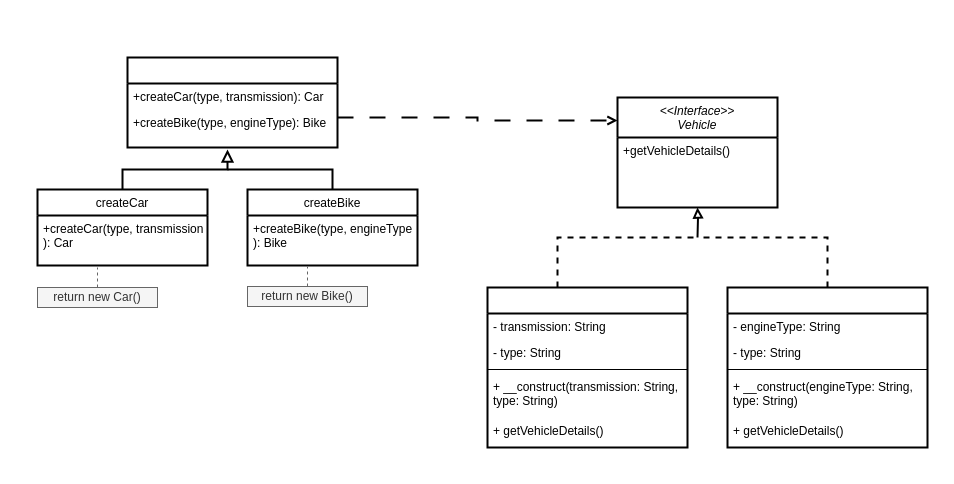
Some shapes in this 954 by 484 pixel diagram are drawn without their labels. Each missing label, with the box of its shape:
Bike: (726, 286, 928, 448)
Car: (486, 286, 688, 448)
VehicleFactory: (126, 56, 338, 148)
